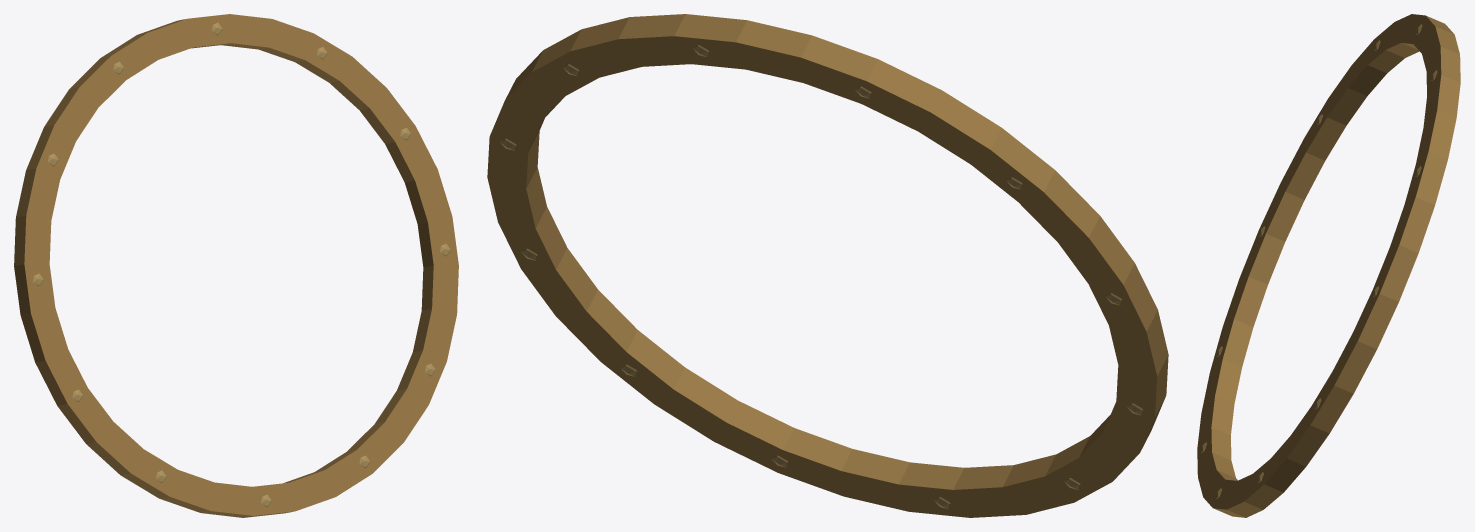
File: energy_tower_ring_a.glb
3 views of the same model, side by side, from view 1: azimuth 30°, elevation 25°; view 2: azimuth 150°, elevation 25°; view 3: azimuth 270°, elevation 25° (orthographic). The views are drawn at different scales.
Parts seen in each view (by area): view 1: Metal; view 2: Metal; view 3: Metal.
Boxes of the visible parts, box(x1,y1,x2,y2) form: Metal: box(14, 14, 458, 517); Metal: box(487, 14, 1168, 517); Metal: box(1197, 14, 1460, 517).
Size of the model in its own units: 2.12 by 1.93 by 1.04.
